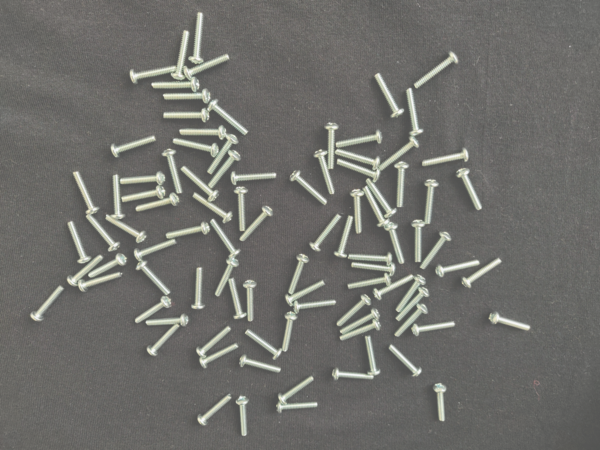longscrew: (414, 53, 459, 87), (369, 74, 405, 116), (69, 173, 103, 216), (291, 171, 328, 208), (462, 256, 501, 291), (212, 99, 248, 135), (191, 192, 231, 224), (137, 263, 174, 297), (210, 219, 244, 256), (183, 53, 230, 79), (309, 214, 342, 251), (206, 136, 239, 173), (377, 140, 417, 170), (30, 285, 65, 319), (183, 168, 218, 202), (418, 232, 450, 269), (237, 207, 274, 239), (375, 270, 413, 301), (127, 64, 176, 88), (455, 169, 484, 209), (66, 254, 100, 288), (88, 217, 120, 253), (133, 297, 171, 327), (104, 216, 146, 243), (390, 344, 426, 375), (314, 149, 338, 195), (280, 375, 315, 406), (64, 225, 93, 262), (213, 257, 241, 295), (147, 325, 180, 357), (162, 147, 184, 195), (398, 288, 429, 322), (369, 178, 396, 217), (196, 328, 231, 358), (207, 154, 238, 187), (398, 275, 425, 312), (200, 392, 231, 424), (395, 307, 427, 338), (339, 296, 369, 329), (171, 31, 192, 78), (490, 310, 532, 333), (413, 317, 455, 340), (424, 149, 470, 170), (341, 311, 378, 337), (287, 256, 311, 296), (333, 217, 357, 257), (200, 345, 239, 369), (137, 194, 179, 216), (135, 238, 177, 260), (336, 160, 380, 181), (112, 136, 158, 156), (363, 188, 387, 226), (246, 333, 281, 359), (90, 255, 126, 280), (336, 148, 381, 168), (341, 322, 380, 345), (385, 222, 406, 264), (165, 225, 209, 245), (288, 282, 324, 306), (80, 272, 122, 292), (323, 122, 341, 168), (236, 395, 254, 441), (240, 356, 281, 376), (437, 261, 480, 280), (423, 181, 442, 224), (406, 88, 423, 135), (352, 188, 369, 235), (282, 312, 300, 356), (409, 219, 427, 263), (336, 130, 382, 147), (348, 248, 394, 265), (346, 274, 392, 291), (227, 277, 245, 320), (235, 189, 253, 232), (365, 333, 383, 376), (393, 164, 411, 207), (351, 259, 396, 276), (174, 140, 220, 156), (275, 401, 322, 416), (190, 11, 203, 64), (292, 299, 336, 314), (232, 172, 279, 186), (122, 188, 165, 203), (192, 265, 205, 310), (331, 369, 379, 381), (119, 172, 165, 184), (166, 90, 208, 103), (246, 277, 258, 322), (145, 316, 188, 328), (433, 383, 445, 425), (163, 111, 213, 121), (178, 127, 228, 137), (148, 81, 197, 91), (112, 172, 122, 221)
